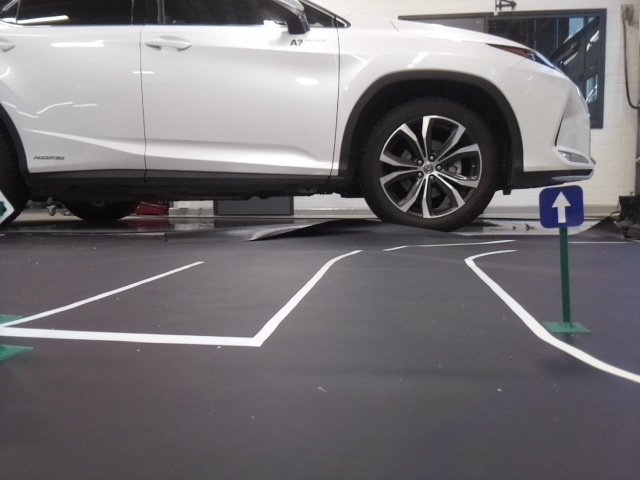OneWay: (541, 189, 585, 228)
